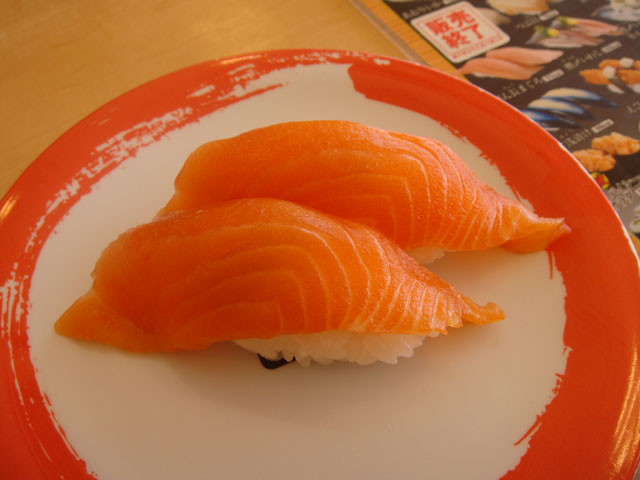salmon: (51, 197, 507, 395)
